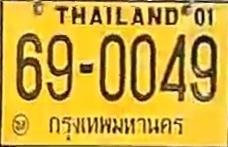0: (98, 33, 126, 101), (130, 33, 156, 101)
4: (159, 32, 186, 102)
6: (16, 32, 42, 100)
9: (190, 34, 218, 102), (46, 34, 73, 100)
BKK: (42, 109, 190, 142)
